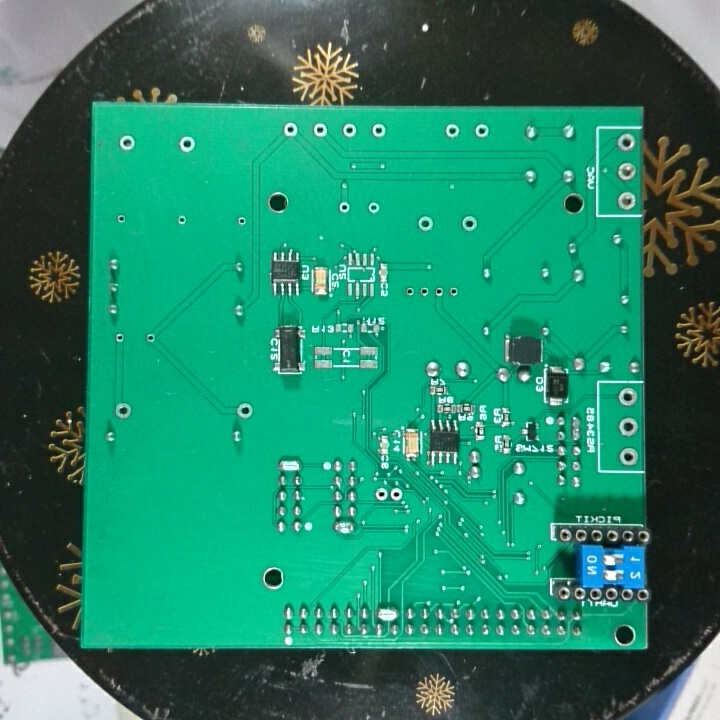F: (615, 413, 639, 440), (614, 189, 637, 212), (614, 160, 637, 183), (617, 444, 639, 468), (615, 131, 637, 155), (616, 386, 639, 408), (459, 212, 480, 236), (233, 400, 257, 420), (176, 133, 197, 155), (112, 400, 134, 421), (415, 213, 436, 234), (116, 133, 137, 152), (368, 121, 388, 140), (472, 123, 491, 141), (442, 121, 461, 139), (311, 121, 330, 139), (280, 121, 299, 139), (339, 122, 358, 139), (365, 200, 382, 219), (373, 485, 390, 504), (389, 485, 404, 505), (114, 211, 131, 228), (234, 212, 249, 231), (445, 281, 460, 300), (431, 283, 447, 300), (174, 211, 188, 229), (402, 284, 417, 300), (112, 331, 128, 346), (417, 283, 431, 300), (336, 200, 351, 215), (143, 331, 158, 346)
P: (374, 603, 402, 622), (276, 457, 305, 473), (569, 412, 583, 444), (332, 519, 358, 535)
